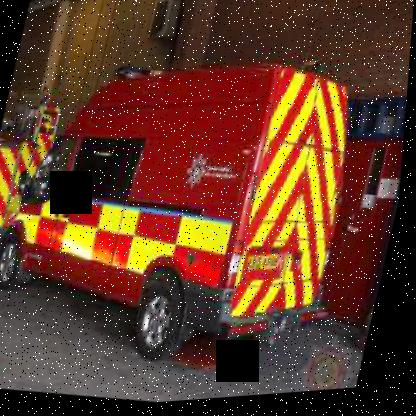emergency: (0, 18, 395, 402), (0, 68, 84, 270)
